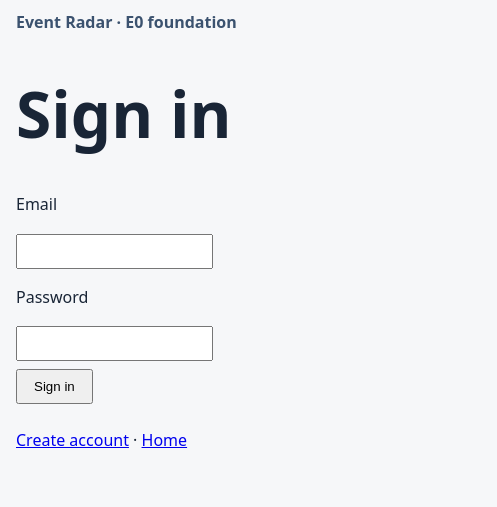
Test case: sanitizes login errors and releases busy state
Expected: the button "Sign in" is shown, [16,369,93,404]
Type "user@example.test" into the field labelled "Email".
click(114, 251); type("user@example.test")  # box [16,234,213,269]
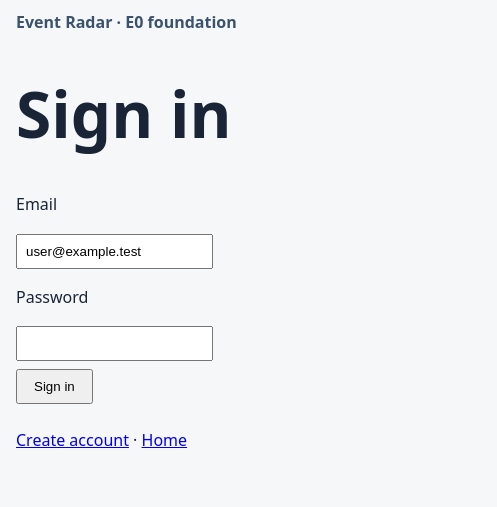
Type "test-password" into the password field labelled "Password".
click(114, 344); type("test-password")  # box [16,326,213,361]
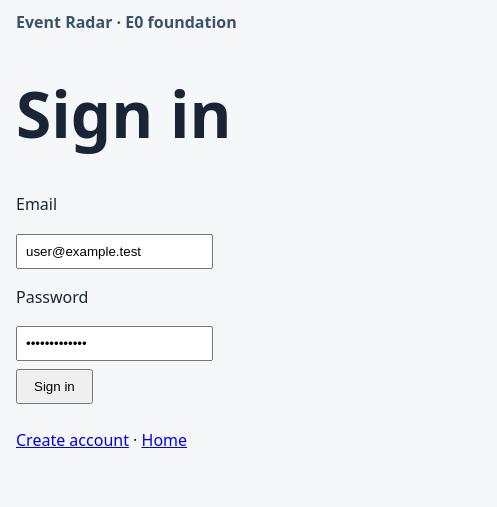
Click the button "Sign in".
click(54, 387)  # box [16,369,93,404]
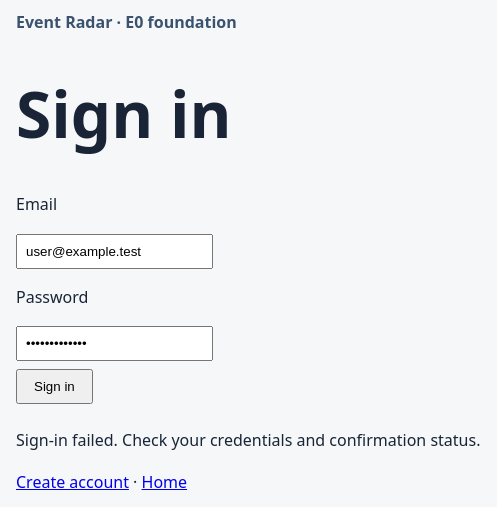
Expected: the message shows "Sign-in failed", [16,429,480,451]
